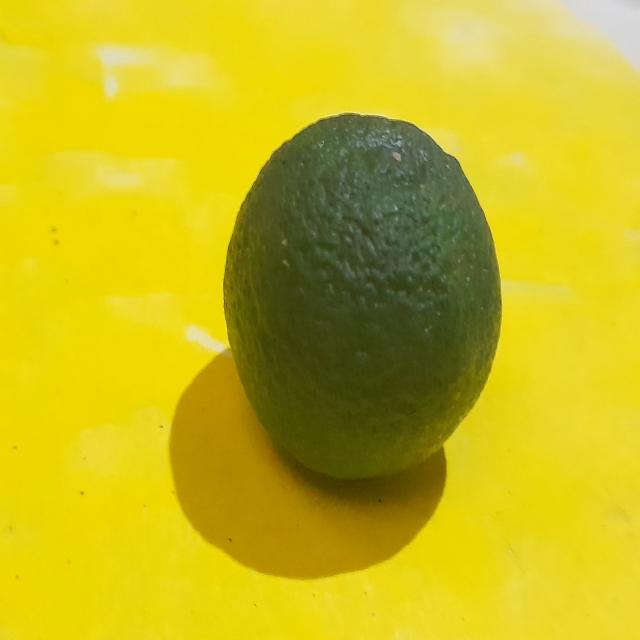heathy: (219, 109, 504, 484)
